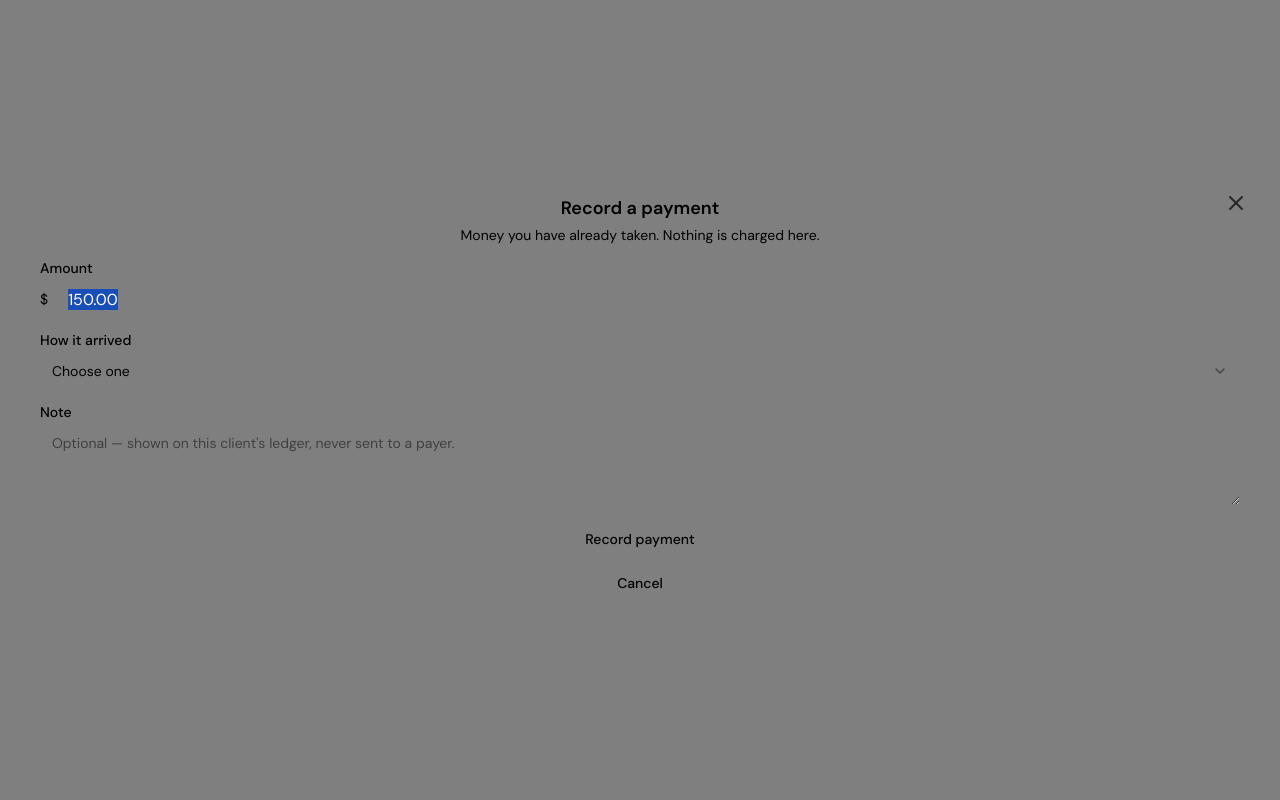
Test: RecordPaymentDialog › refuses 'other' with nothing said about it
The width and height of the screenshot is (1280, 800).
Click the dropdown named "how it arrived": (91, 371) [40,353,1240,389]
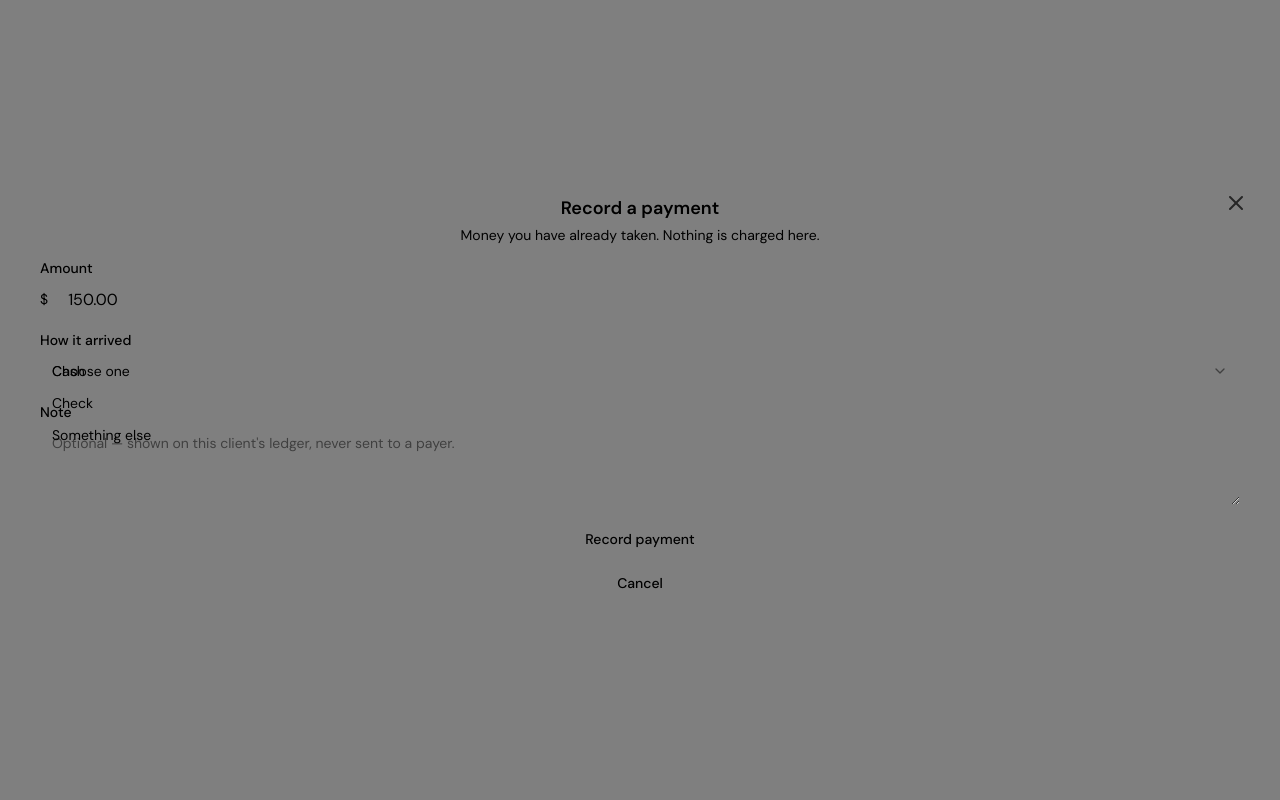
Click the option "Something else": (102, 435) [52,426,151,444]
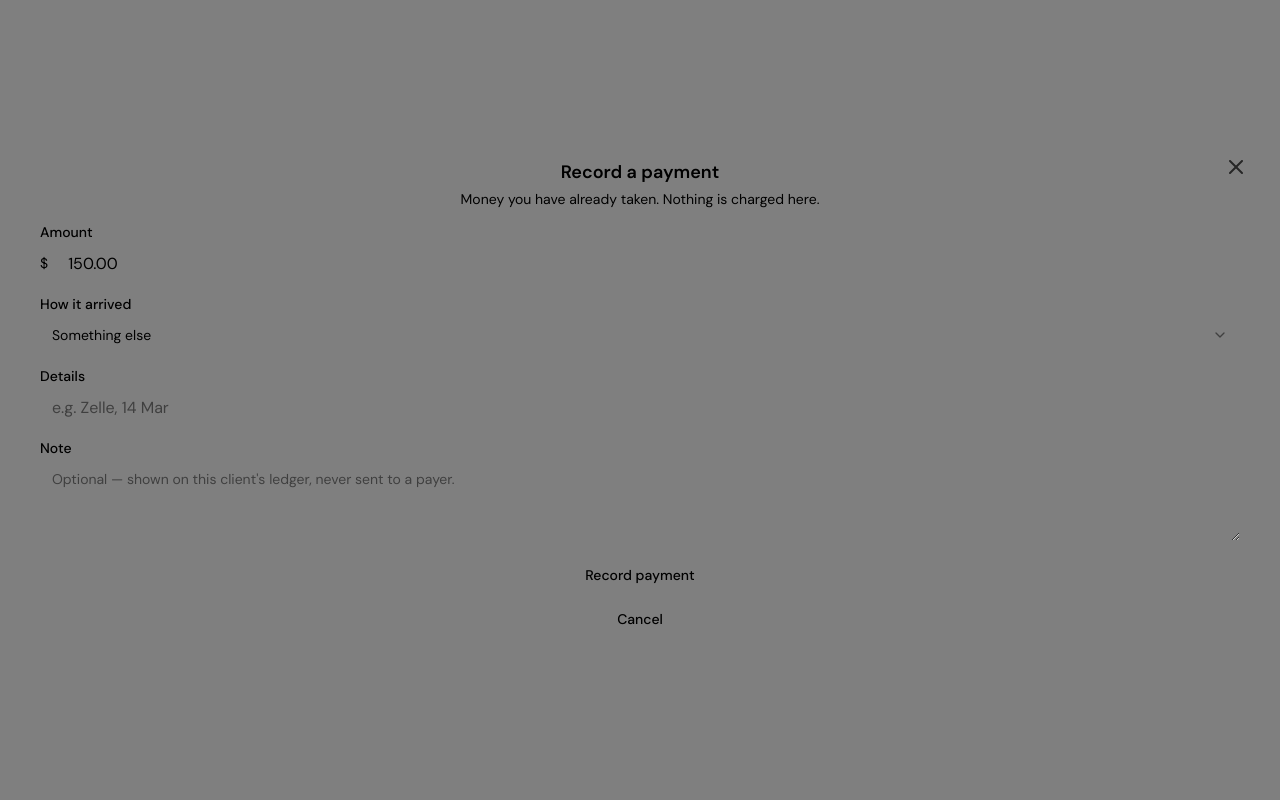
Click the button "Record payment": (640, 575) [40,557,1240,593]
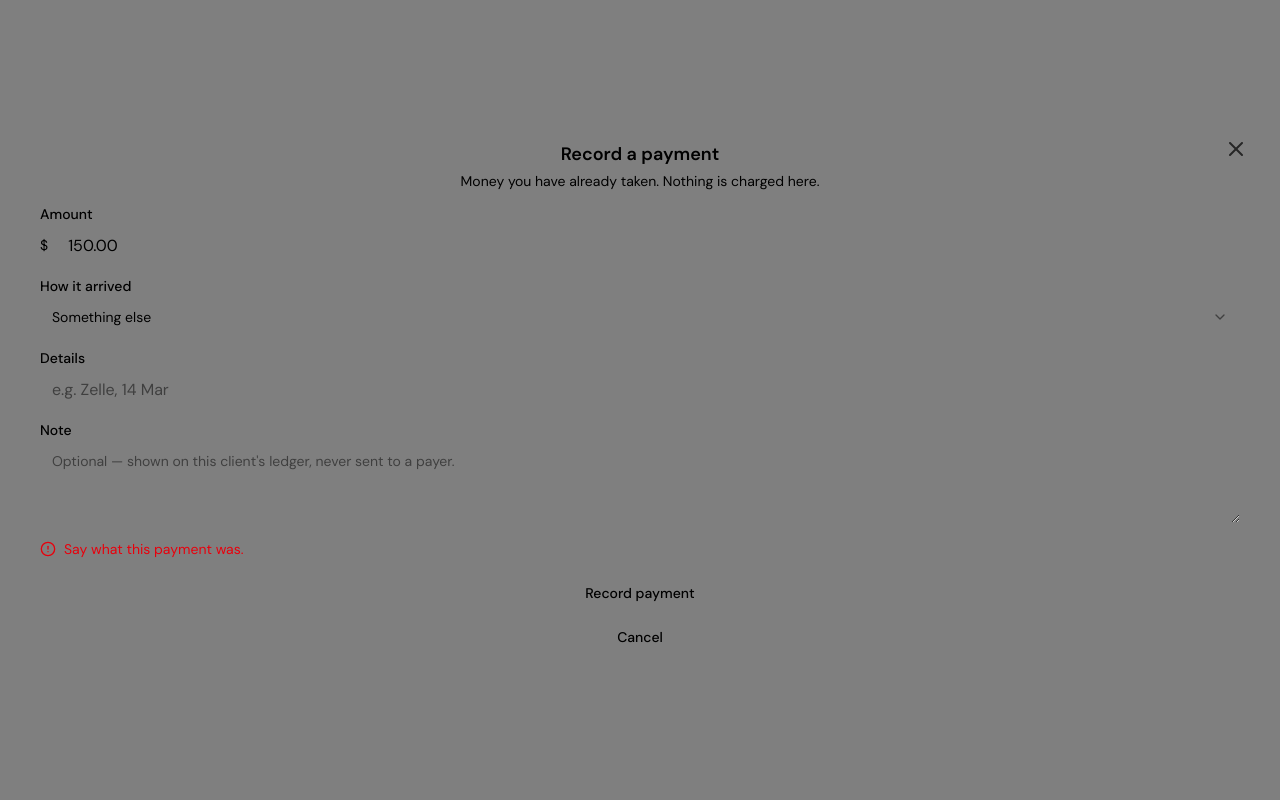
Expected: the message shows "what this payment was", [64,540,244,558]
